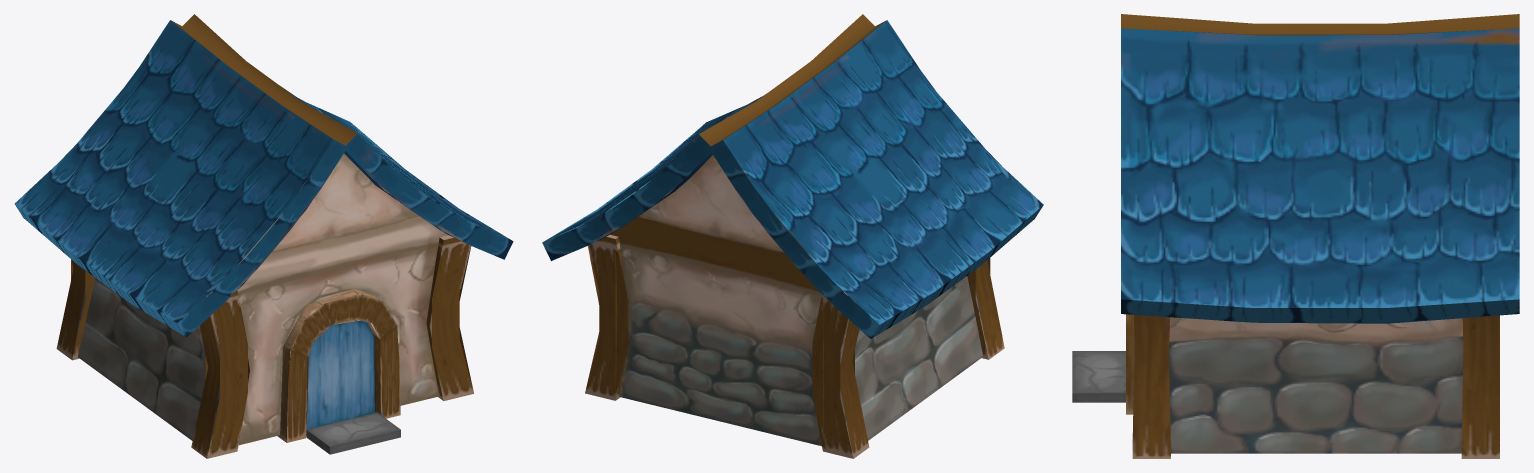
File: house2.glb
3 views of the same model, side by side, from view 1: azimuth 30°, elevation 25°; view 2: azimuth 150°, elevation 25°; view 3: azimuth 270°, elevation 25° (orthographic). The views are drawn at different scales.
Parts seen in each view (by area): view 1: Roof_phong27_0; view 2: Roof_phong27_0; view 3: Roof_phong27_0.
Part boxes in pixels (<box>): Roof_phong27_0: <box>14,14,513,458</box>; Roof_phong27_0: <box>542,14,1043,458</box>; Roof_phong27_0: <box>1072,14,1519,458</box>.
Size of the model in its own units: 1.86 by 1.56 by 1.76.
Materials: 1 (1 with a texture image).
